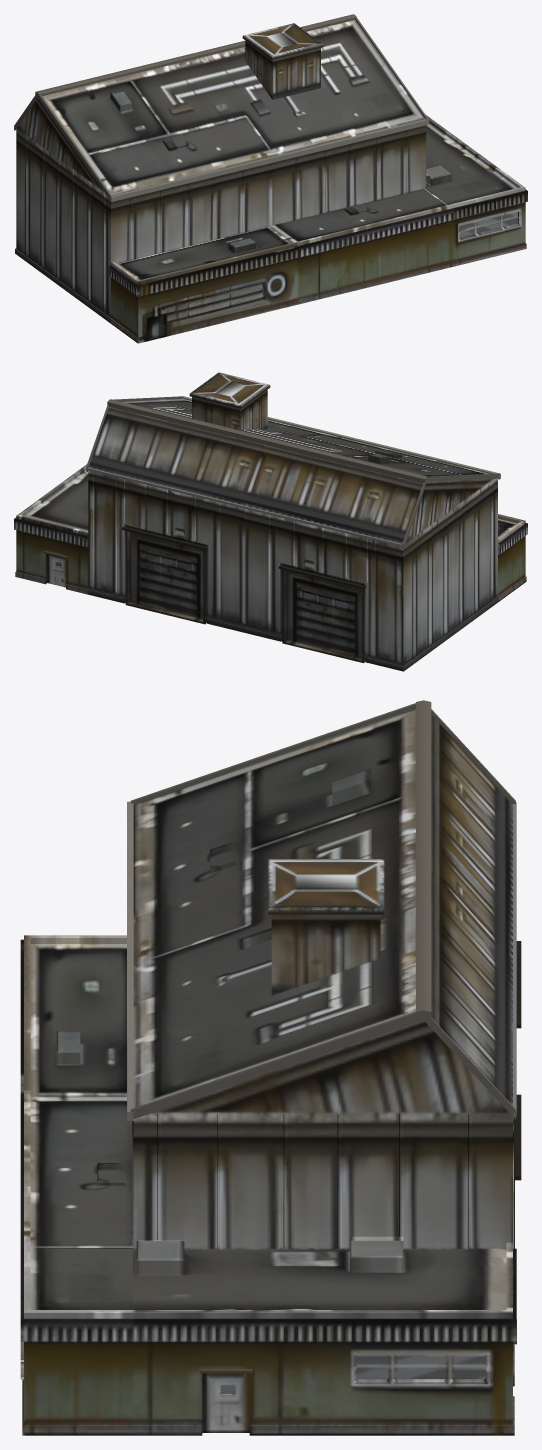
The model's file is factorylg_cad.glb.
3 views of the same model, one above another, from view 1: azimuth 30°, elevation 25°; view 2: azimuth 150°, elevation 25°; view 3: azimuth 270°, elevation 25° (orthographic). The views are drawn at different scales.
Visible parts, largest first — view 1: Box01; view 2: Box01; view 3: Box01.
Part boxes in pixels (bbox=[...]): Box01: bbox=[14, 14, 527, 343]; Box01: bbox=[14, 372, 527, 671]; Box01: bbox=[20, 700, 521, 1435].
Size of the model in its own units: 29.79 by 14.27 by 16.55.
1 material, 1 textured.
